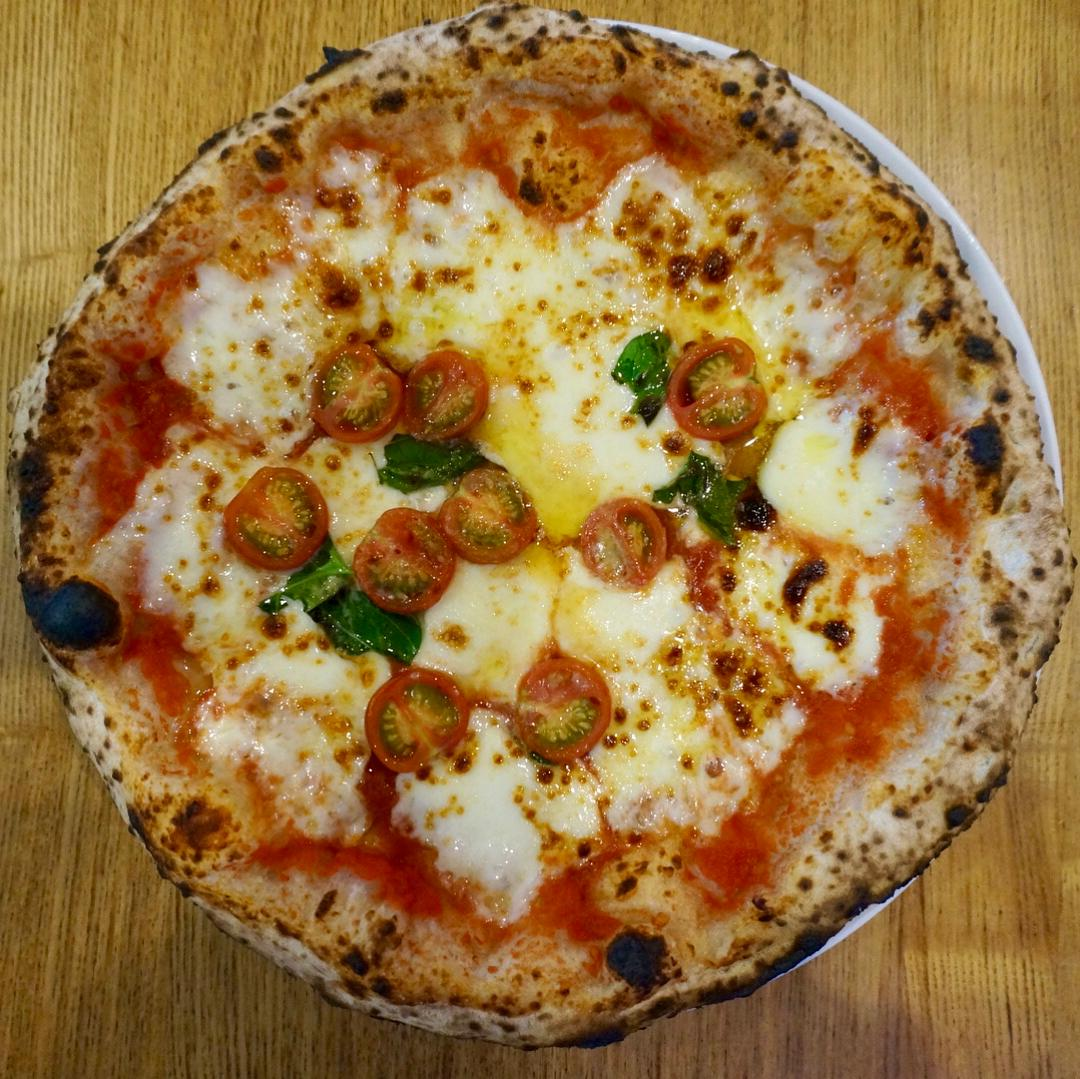Basil: (294, 566, 426, 660), (675, 452, 748, 536), (387, 437, 477, 488), (616, 329, 670, 412)
Cheese: (424, 222, 674, 333), (451, 580, 689, 663), (524, 354, 661, 483), (788, 420, 915, 532)
Pizza: (33, 33, 1071, 1054)
Tomatoes: (224, 459, 321, 574), (351, 507, 453, 611), (670, 339, 766, 438), (370, 672, 464, 771), (520, 660, 609, 758), (454, 461, 541, 561), (314, 341, 401, 439), (579, 499, 666, 589), (401, 350, 490, 437)
